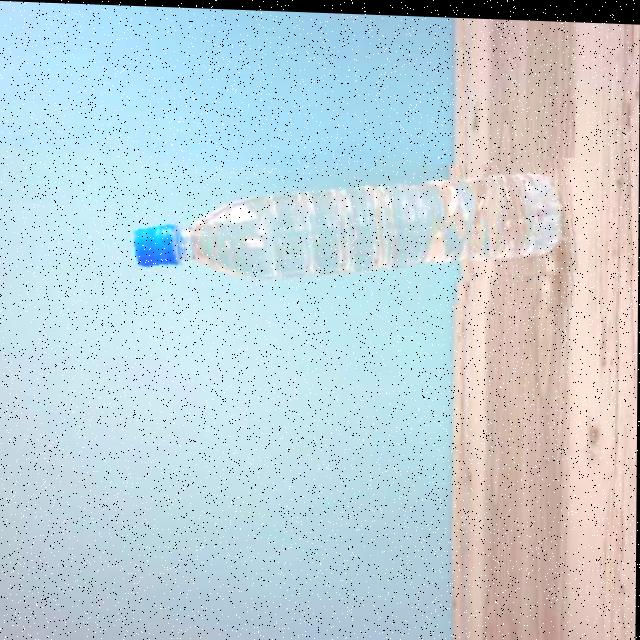litter: (116, 150, 586, 309), (117, 186, 200, 266)
